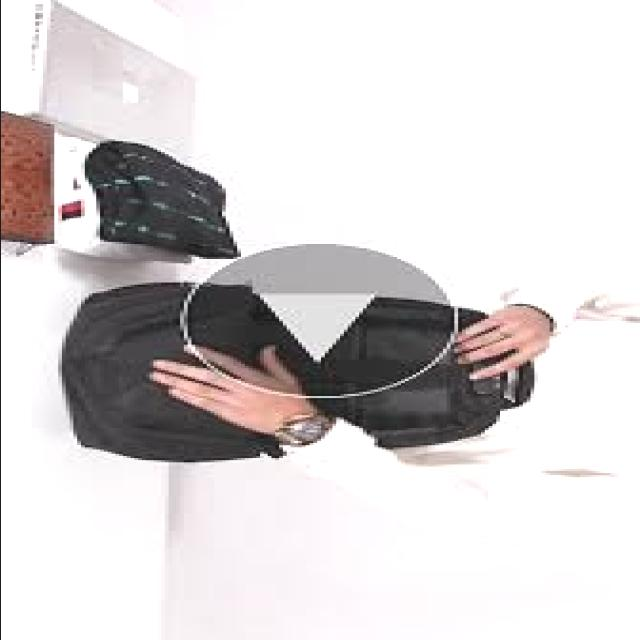backpack: (62, 282, 538, 464)
